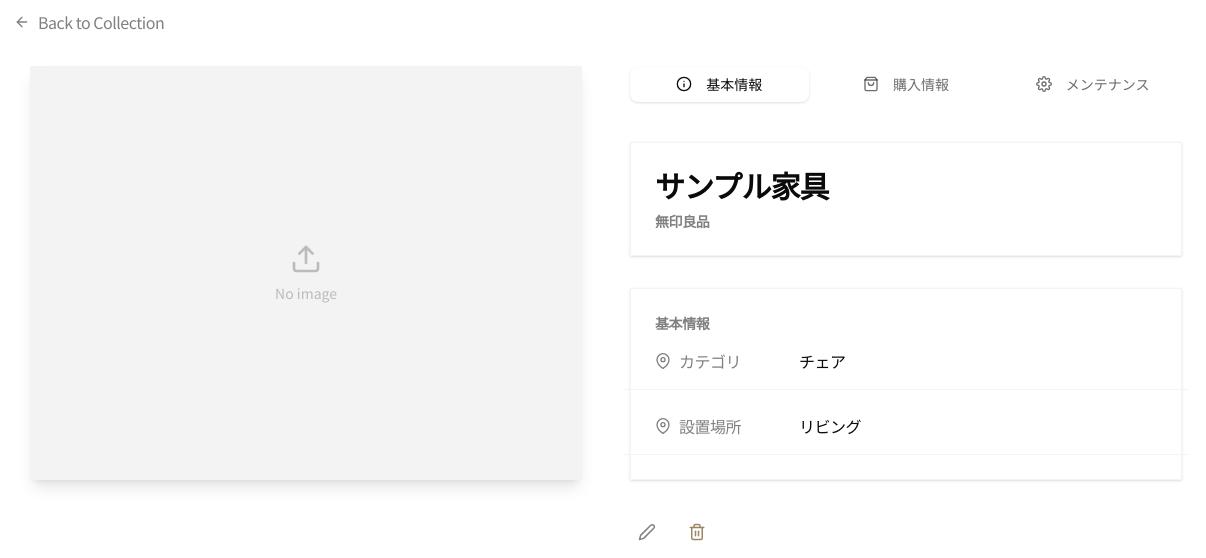
it: FurnitureDetailClient › タブ切り替え › 購入情報タブに切り替わると、購入日や店舗が表示される
Click the tab "購入情報". click: (906, 84)
box: [817,66,995,102]
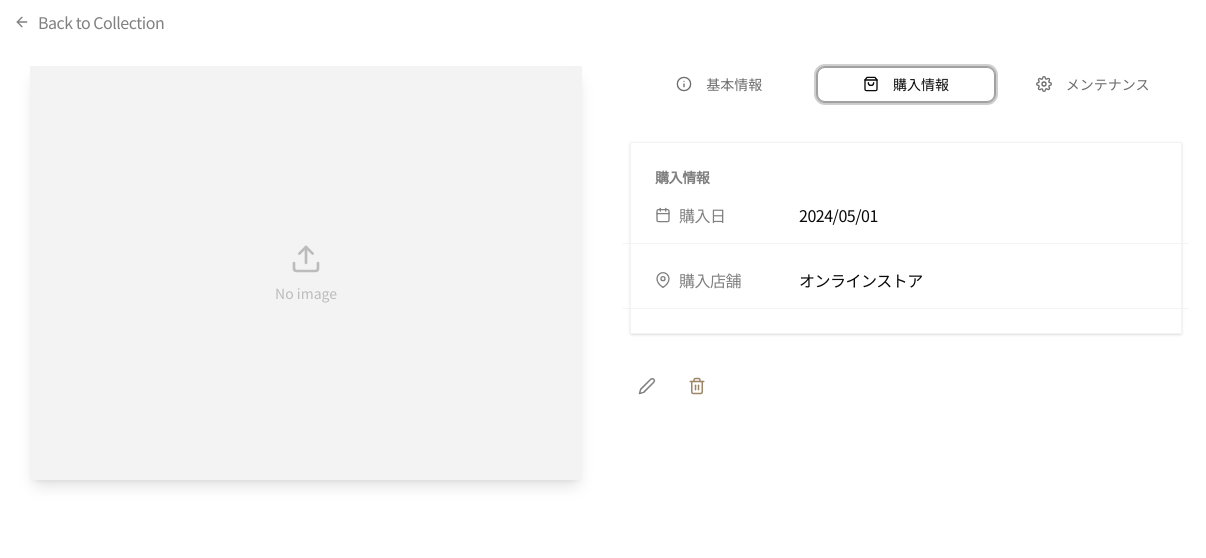
Check: the text "購入日" is shown, box [679,203,726,227]
Check: the text "購入店舗" is shown, box [679,268,741,292]
